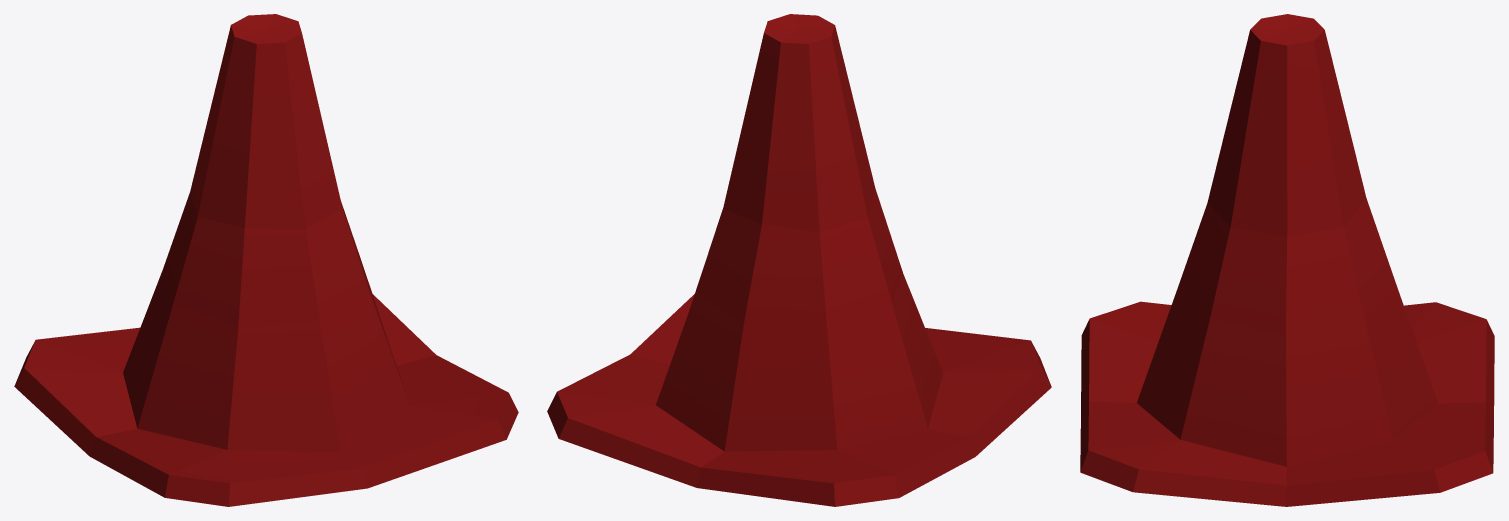
File: Traffic_Cone_Red.glb
3 renders of one model, left to right at view 1: azimuth 30°, elevation 25°; view 2: azimuth 150°, elevation 25°; view 3: azimuth 270°, elevation 25°, orthographic.
Visible parts, largest first — view 1: Traffic_Cone_Red; view 2: Traffic_Cone_Red; view 3: Traffic_Cone_Red.
Boxes of the visible parts, x1,y1,x2,y2 form: Traffic_Cone_Red: (14,14,518,506); Traffic_Cone_Red: (547,14,1051,506); Traffic_Cone_Red: (1080,14,1494,506).
Size of what is drawn, in the model's own units: 0.5267 by 0.5469 by 0.5268.
Materials: 1 (1 with a texture image).
